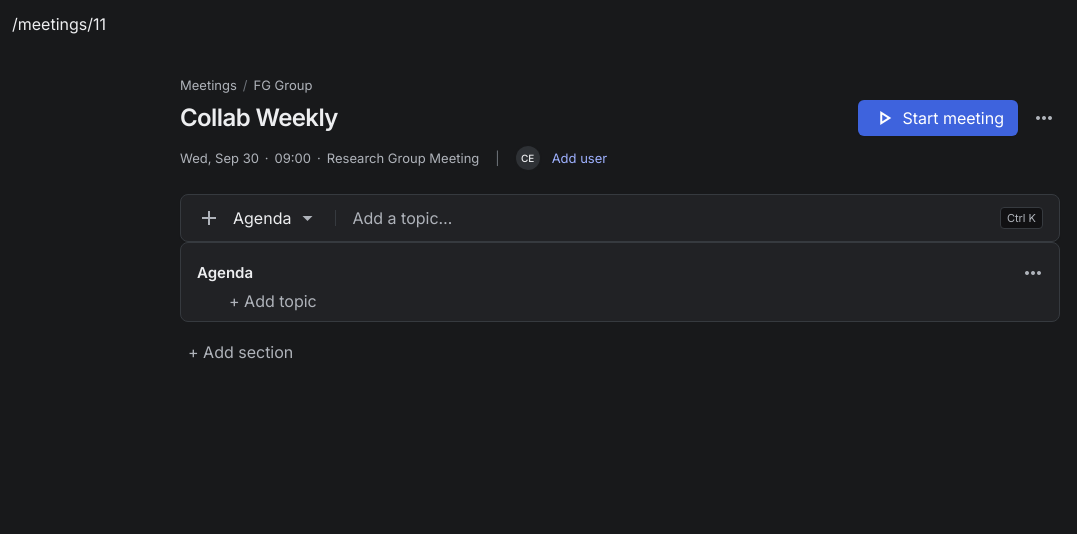
Test: MeetingDetailPage collaboration controls › shows Start, inline section creation, and participant management to a normal group member
This screenshot has width=1077, height=534.
expect the heading "Collab Weekly" is shown: met, box [180,102,338,134]
expect the button "Start meeting" is shown: met, box [858,100,1018,136]
Click the button named "Meeting actions": coordinates (1044, 118) [1028,102,1060,134]
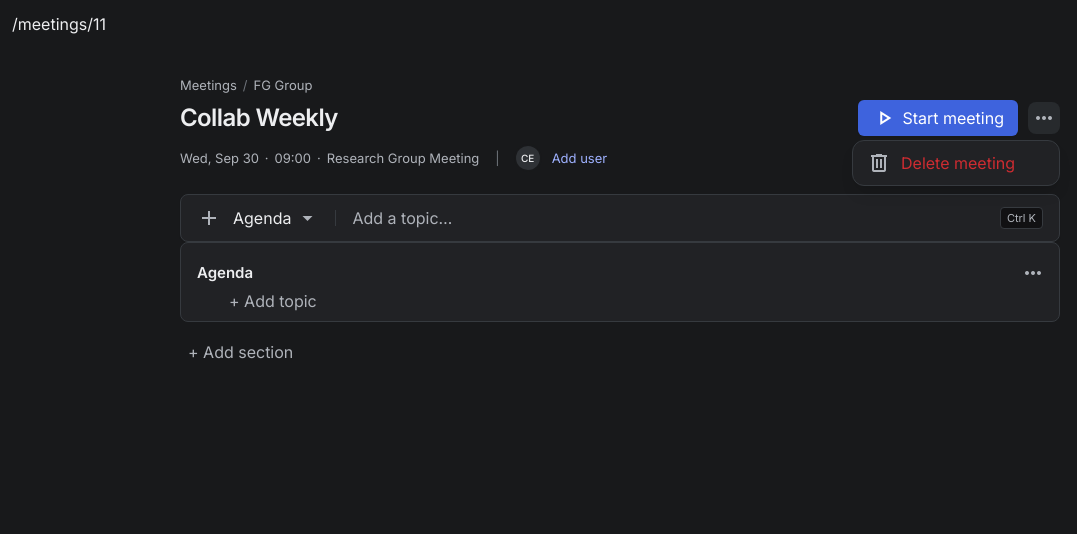
expect the menu item "Delete meeting" is shown: met, box [857,145,1055,181]
Click the button "Add user": coordinates (579, 158) [552,149,607,167]
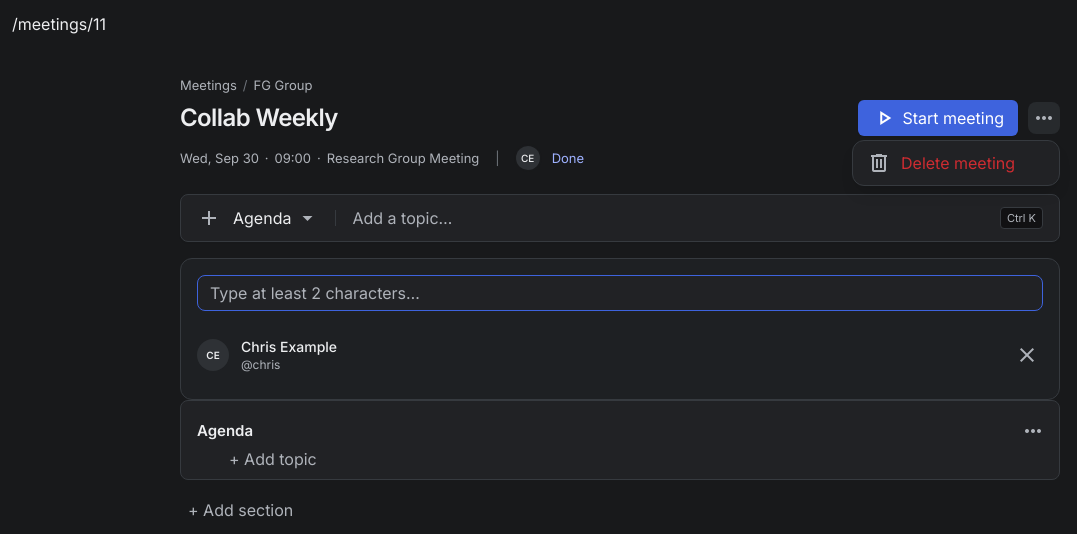
expect the button named "Remove Chris Example" is shown: met, box [1011,339,1043,371]
